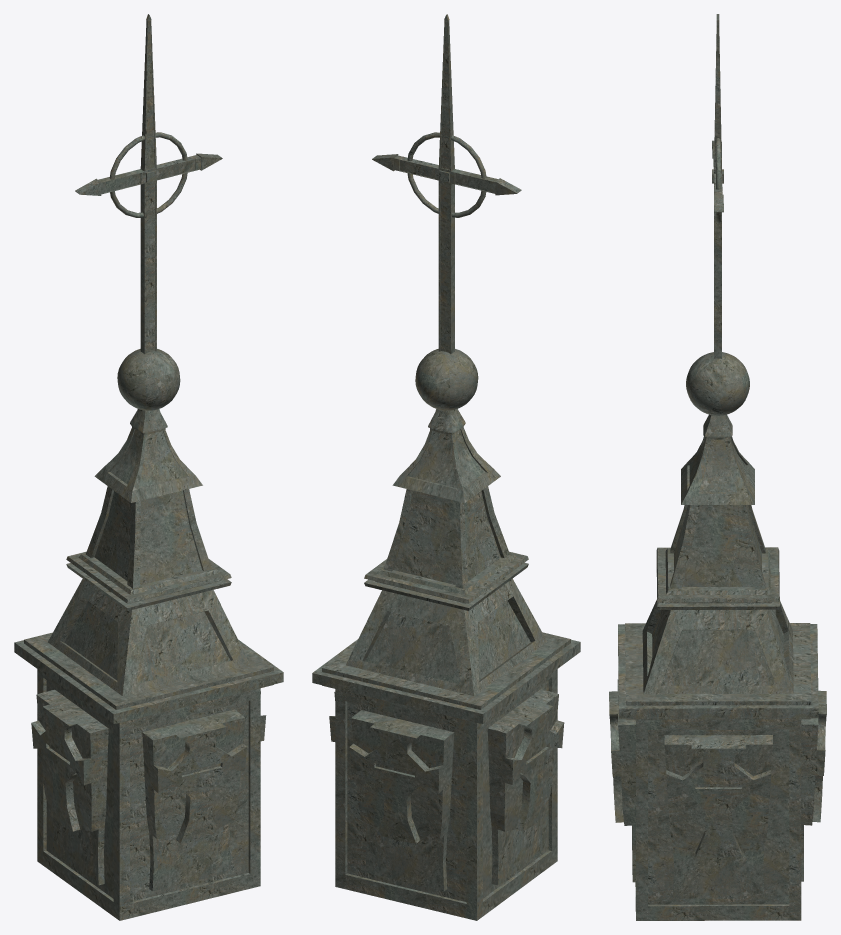
Rendered from fbxPillar.fbx.
3 renders of one model, left to right at view 1: azimuth 30°, elevation 25°; view 2: azimuth 150°, elevation 25°; view 3: azimuth 270°, elevation 25°, orthographic.
Parts seen in each view (by area): view 1: Pillar1; view 2: Pillar1; view 3: Pillar1.
Part boxes in pixels (left/top/right/bottom): Pillar1: left=14, top=14, right=283, bottom=920; Pillar1: left=312, top=14, right=580, bottom=920; Pillar1: left=609, top=14, right=826, bottom=920.
Bounding box in the file's own units: 3.65 × 16.11 × 3.65.
Materials: 1 (1 with a texture image).
